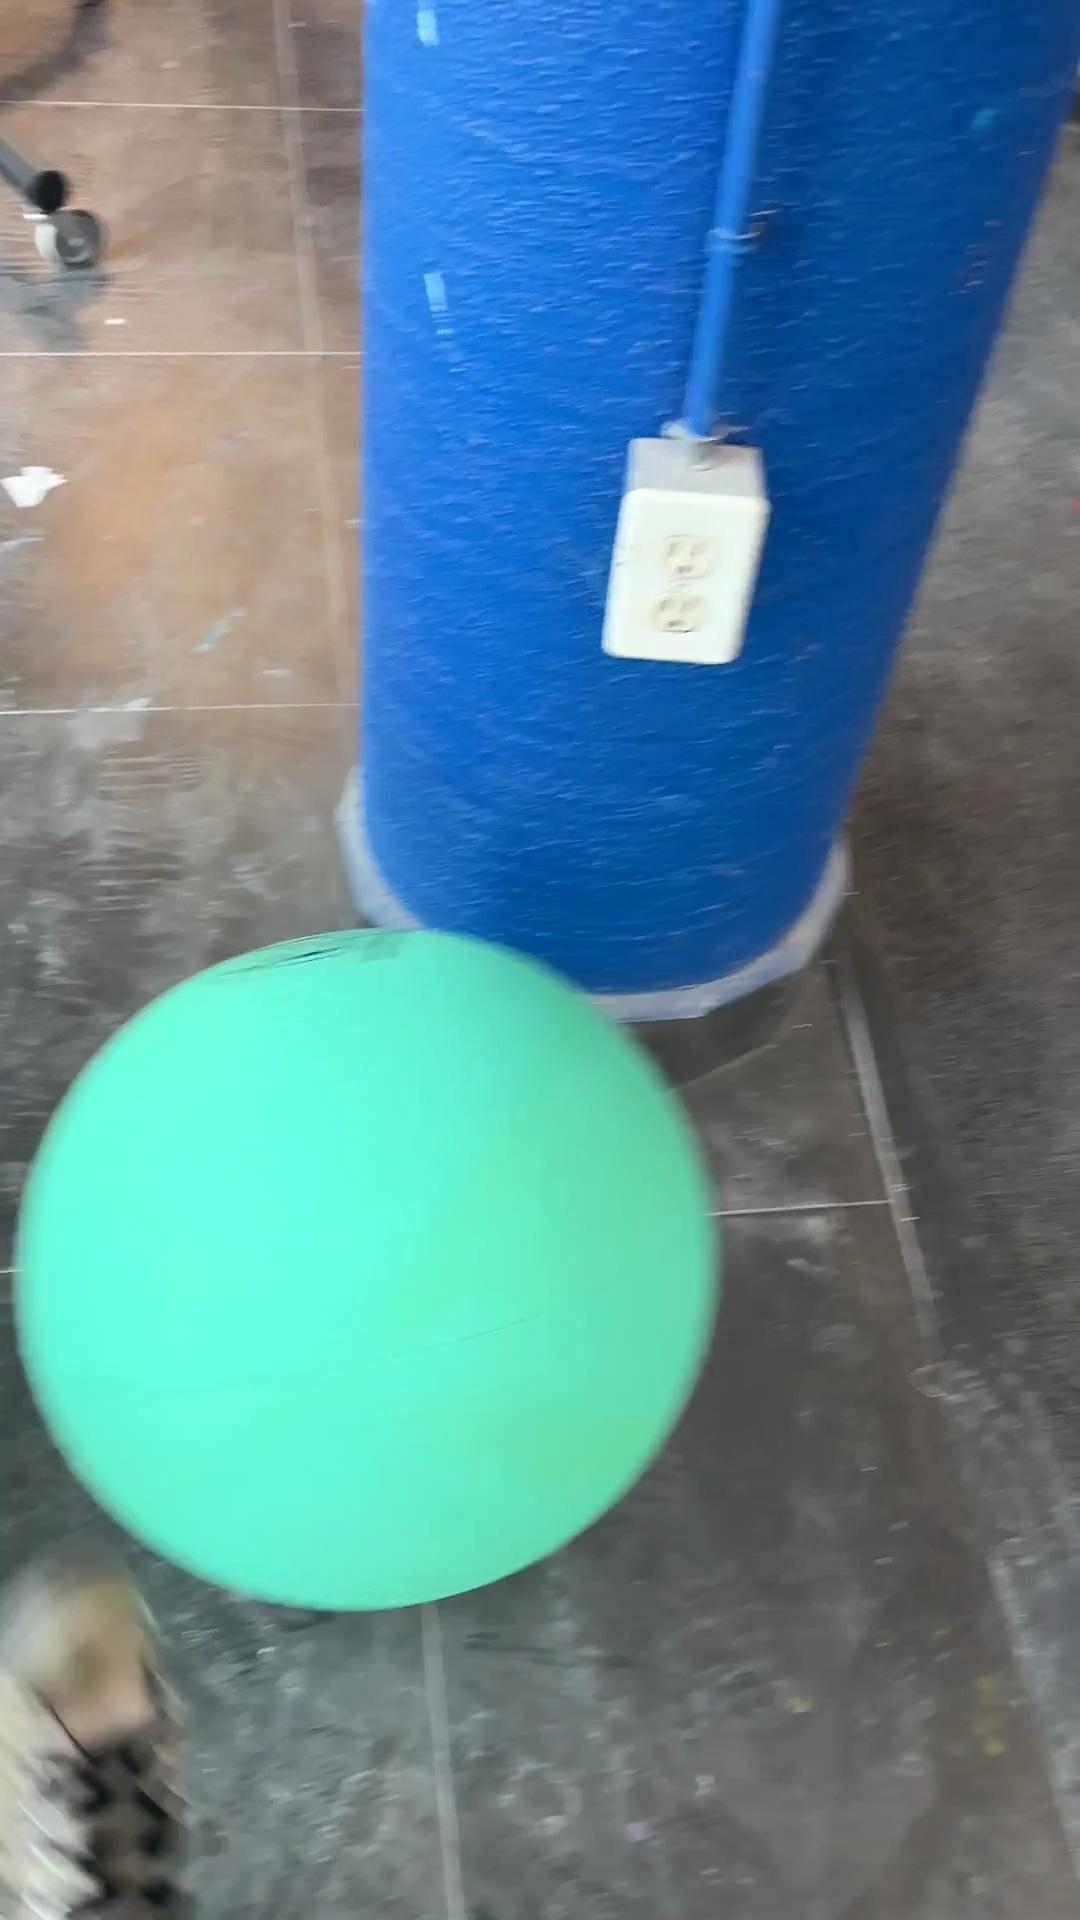ALGAE: (11, 923, 723, 1614)
